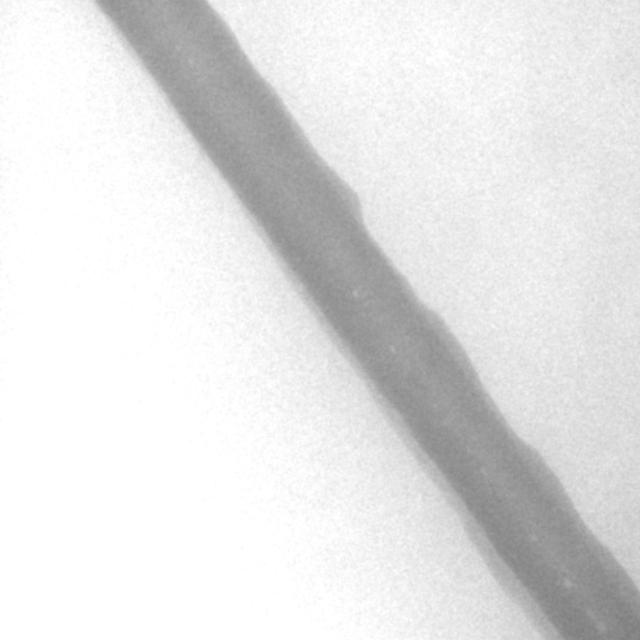air-hole: (596, 622, 607, 634), (586, 608, 596, 618), (564, 580, 572, 588), (530, 532, 537, 540), (481, 467, 487, 476), (389, 344, 395, 352), (187, 58, 193, 64), (354, 290, 358, 298)
